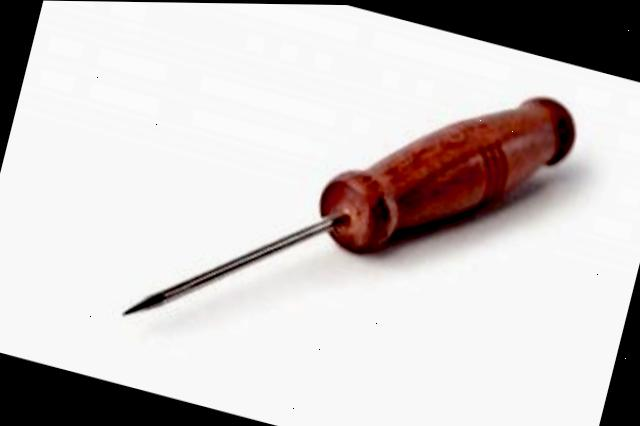ice pick: (119, 1, 585, 416)
